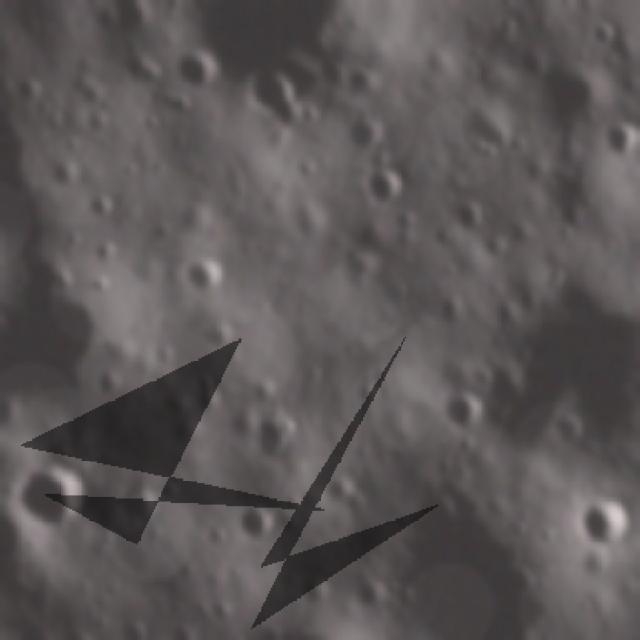crater: (346, 475, 582, 640), (463, 250, 640, 468), (0, 259, 149, 426), (513, 43, 619, 128), (11, 458, 95, 536), (234, 58, 315, 136), (447, 95, 525, 170), (166, 245, 240, 304), (212, 615, 370, 640), (578, 489, 638, 549), (113, 478, 172, 539), (229, 494, 288, 551), (359, 157, 416, 214), (246, 412, 299, 470), (434, 380, 488, 435), (336, 234, 389, 289), (338, 109, 396, 158), (171, 41, 224, 93), (539, 402, 592, 452), (334, 56, 386, 99), (5, 63, 46, 109), (600, 116, 640, 158), (83, 186, 125, 220), (583, 18, 623, 52), (48, 150, 84, 184), (114, 615, 154, 640), (51, 624, 103, 640)
